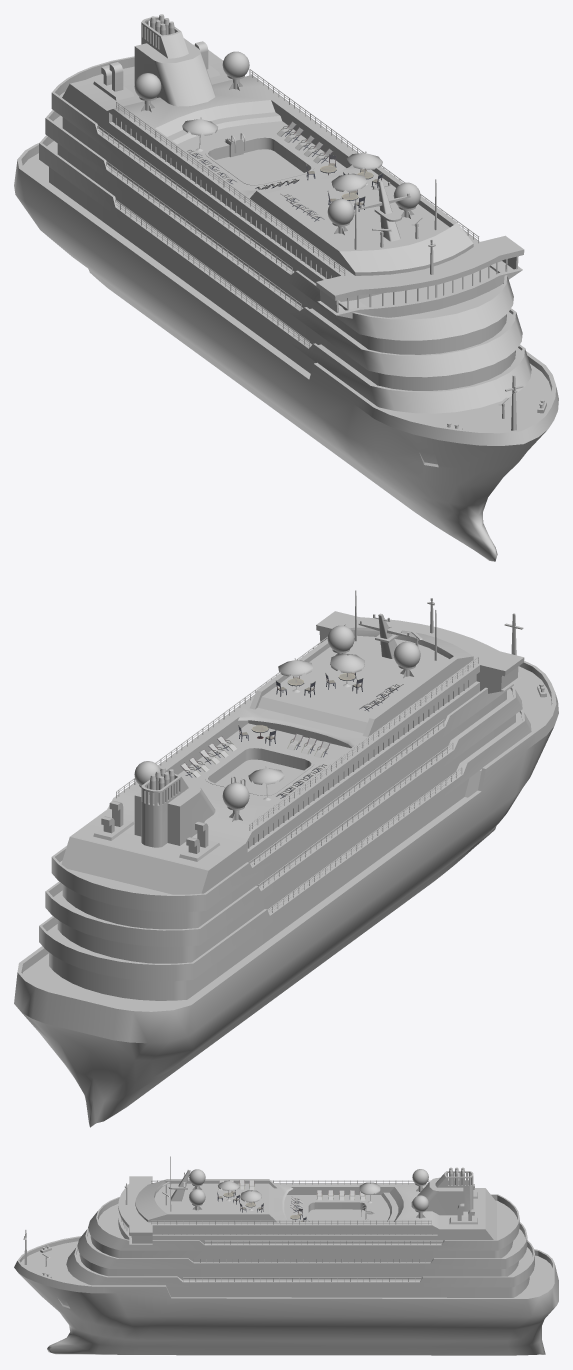
The model's file is Liner.fbx.
The picture shows the model from 3 angles, top to bottom: view 1: azimuth 30°, elevation 25°; view 2: azimuth 150°, elevation 25°; view 3: azimuth 270°, elevation 25°; orthographic projection. The views are drawn at different scales.
Parts seen in each view (by area): view 1: Liner; view 2: Liner; view 3: Liner.
Part boxes in pixels (x1,y1,x2,y2): Liner: (14,14,558,561); Liner: (14,590,558,1127); Liner: (14,1156,558,1355).
Size of the model in its own units: 2081 by 3188 by 8459.
